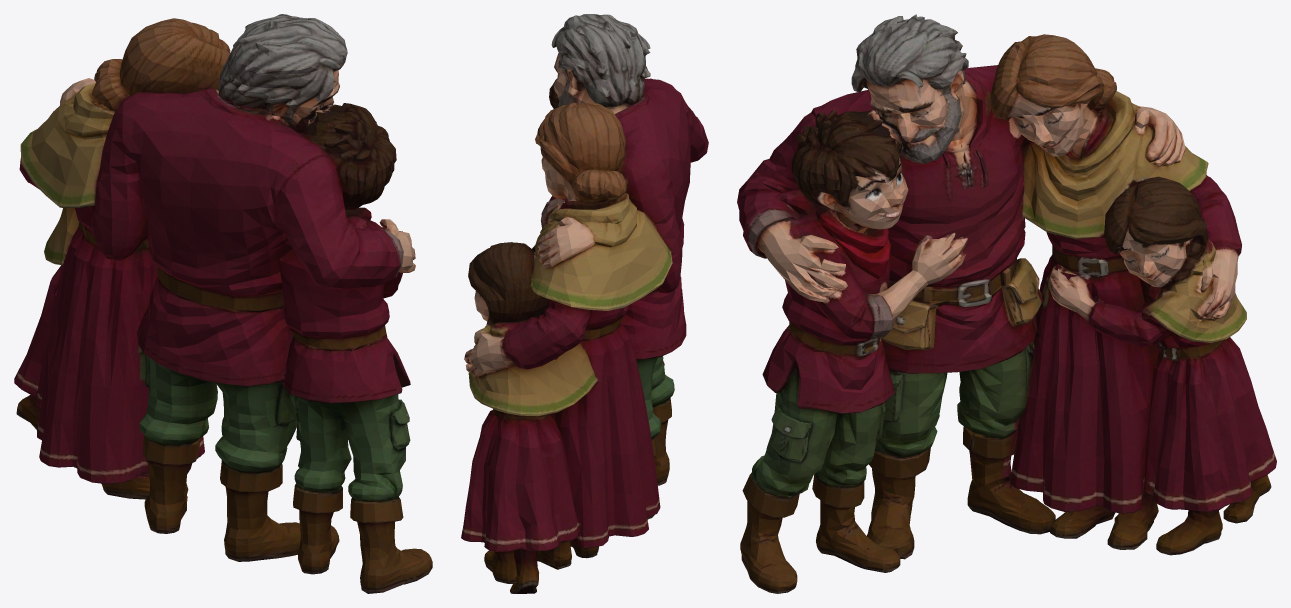
The model's file is Familia.glb.
3 renders of one model, left to right at view 1: azimuth 30°, elevation 25°; view 2: azimuth 150°, elevation 25°; view 3: azimuth 270°, elevation 25°, orthographic. The views are drawn at different scales.
Visible parts, largest first — view 1: tripo_node_88ab3539-13e0-40b3-8854-8419a0051f5f; view 2: tripo_node_88ab3539-13e0-40b3-8854-8419a0051f5f; view 3: tripo_node_88ab3539-13e0-40b3-8854-8419a0051f5f.
Boxes of the visible parts, x1,y1,x2,y2 form: tripo_node_88ab3539-13e0-40b3-8854-8419a0051f5f: [14, 14, 432, 593]; tripo_node_88ab3539-13e0-40b3-8854-8419a0051f5f: [461, 14, 708, 593]; tripo_node_88ab3539-13e0-40b3-8854-8419a0051f5f: [737, 14, 1276, 593].
Size of the model in its own units: 0.4677 by 1 by 0.9119.
1 material, 1 textured.
